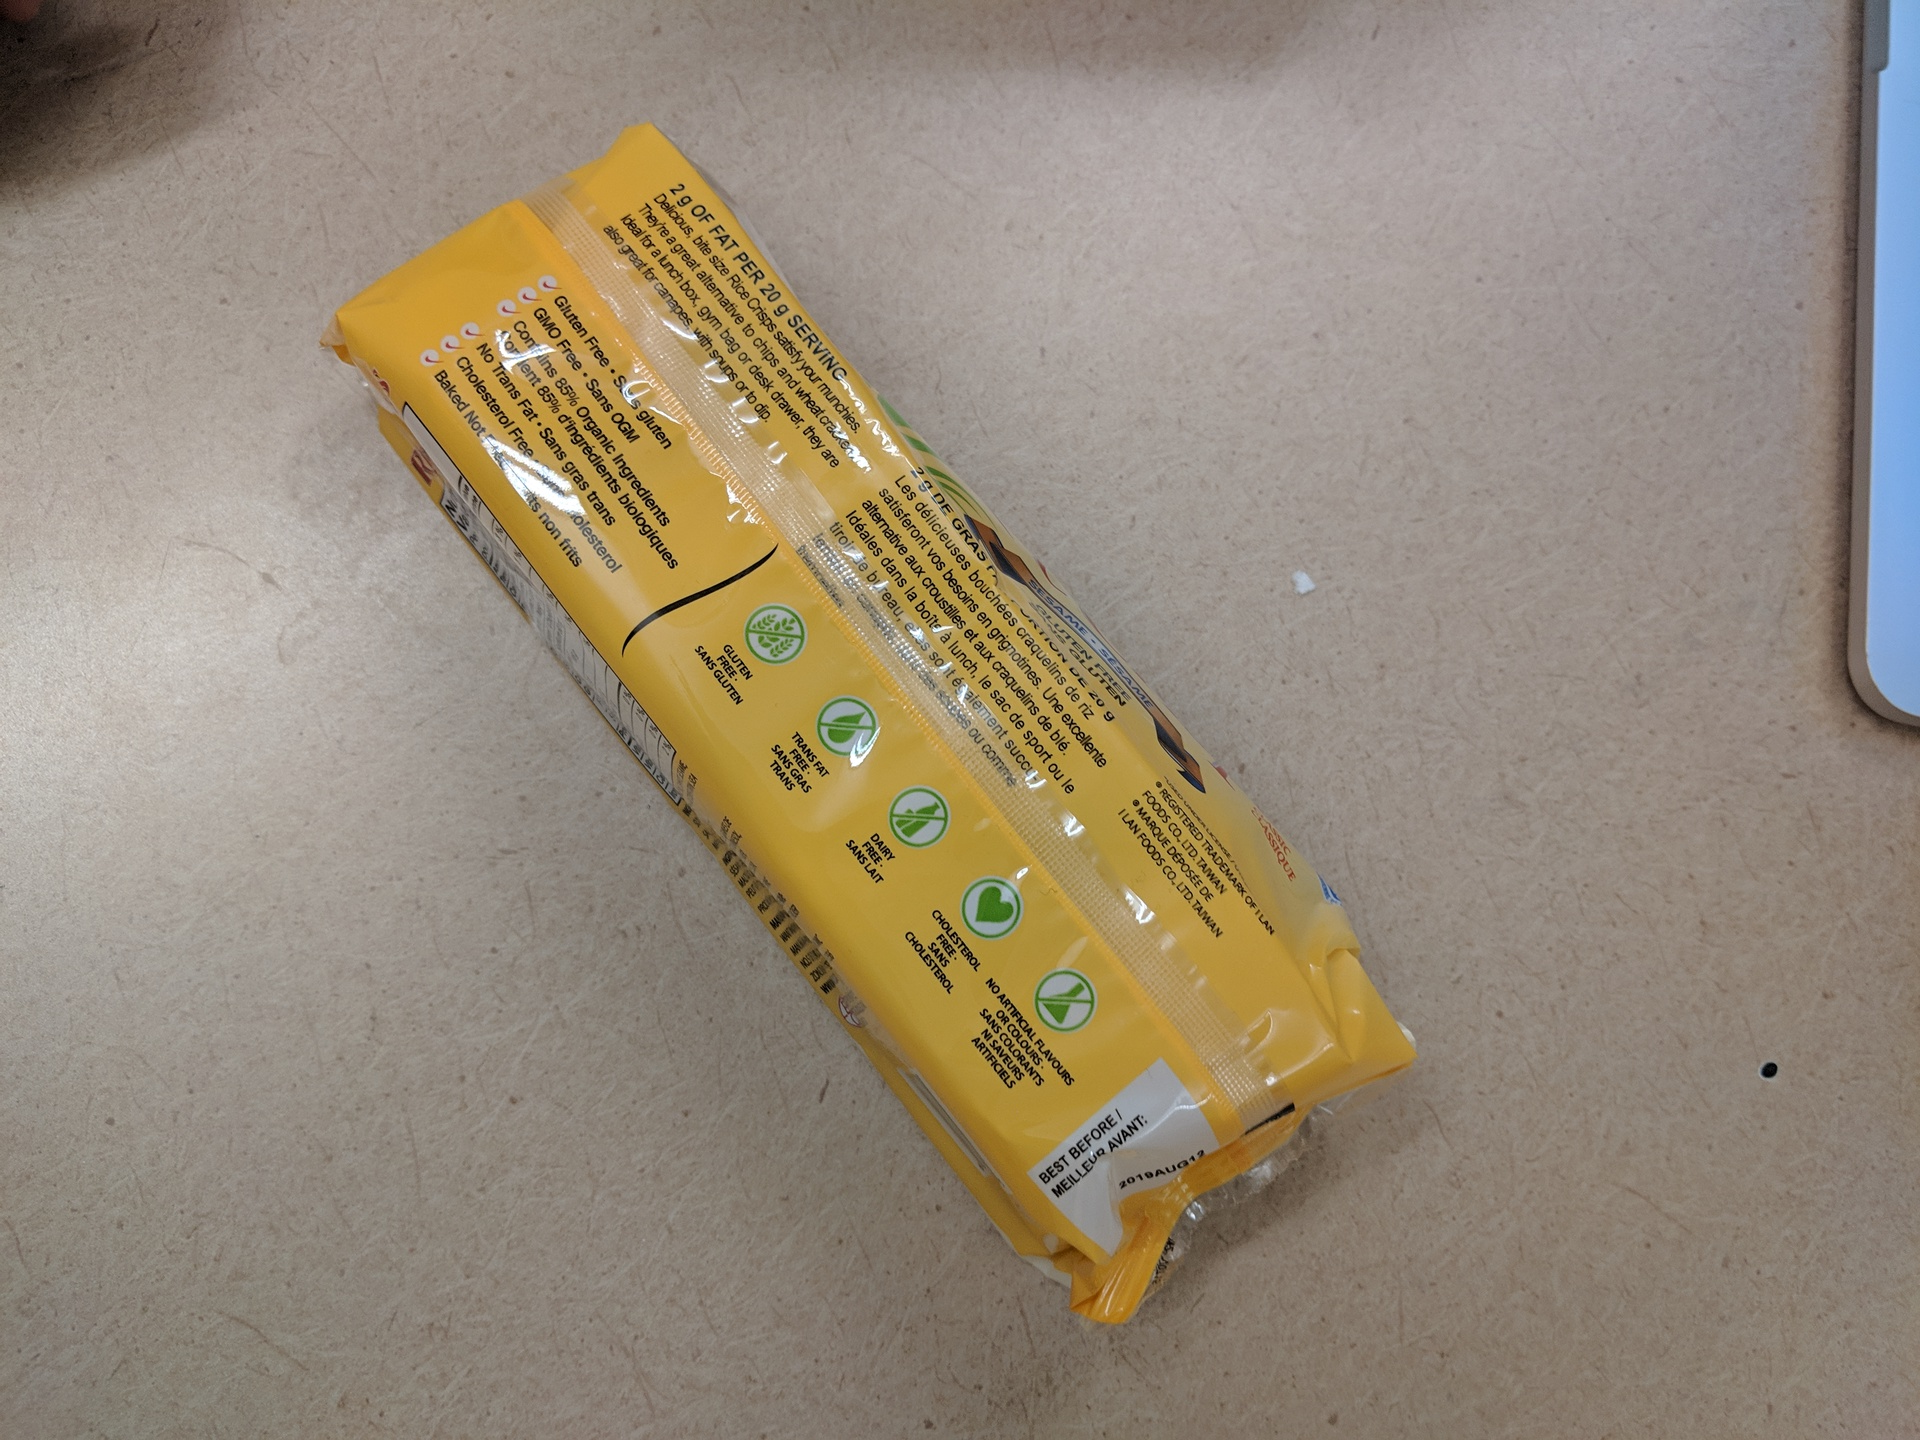hot_kid_rice_crisps_sesame: (499, 111, 1606, 1322)
